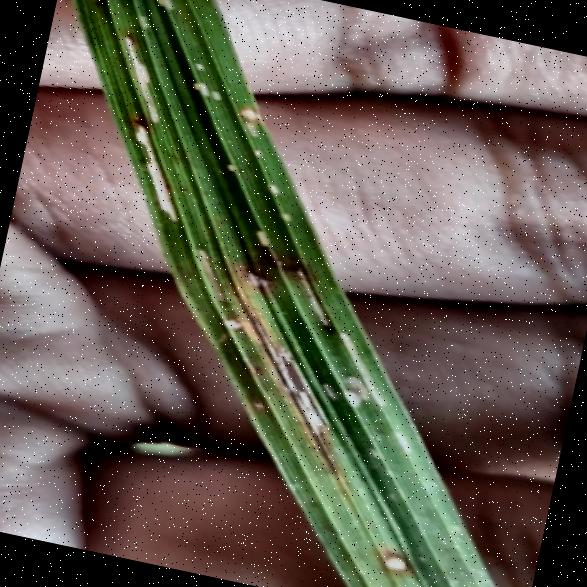Leaf_smut: (130, 240, 475, 587), (42, 0, 371, 265)
